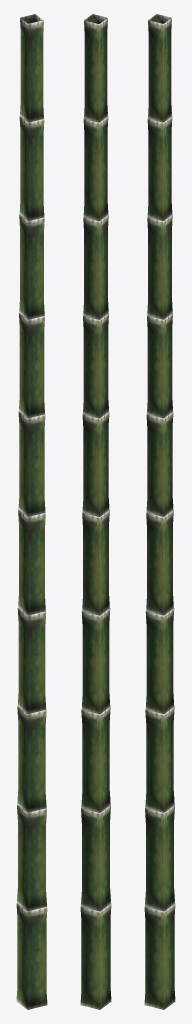
The model's file is bamboo_10.fbx.
3 renders of one model, left to right at view 1: azimuth 30°, elevation 25°; view 2: azimuth 150°, elevation 25°; view 3: azimuth 330°, elevation 25°, orthographic.
Parts seen in each view (by area): view 1: bamboo_10; view 2: bamboo_10; view 3: bamboo_10.
Part boxes in pixels (x1=…): bamboo_10: x1=16, y1=14, x2=47, y2=1009; bamboo_10: x1=80, y1=14, x2=111, y2=1009; bamboo_10: x1=144, y1=14, x2=175, y2=1009.
Size of the model in its own units: 41.83 by 2000 by 41.83.
